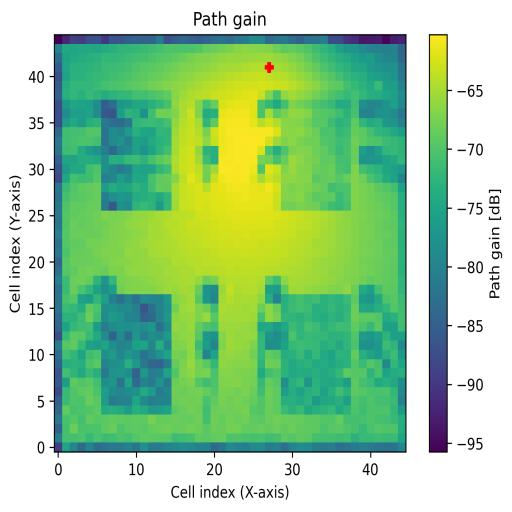Concrete: (282, 101, 352, 210)
Glass: (101, 100, 172, 212)
Metal: (282, 296, 353, 414)
Wood: (102, 294, 172, 415)
